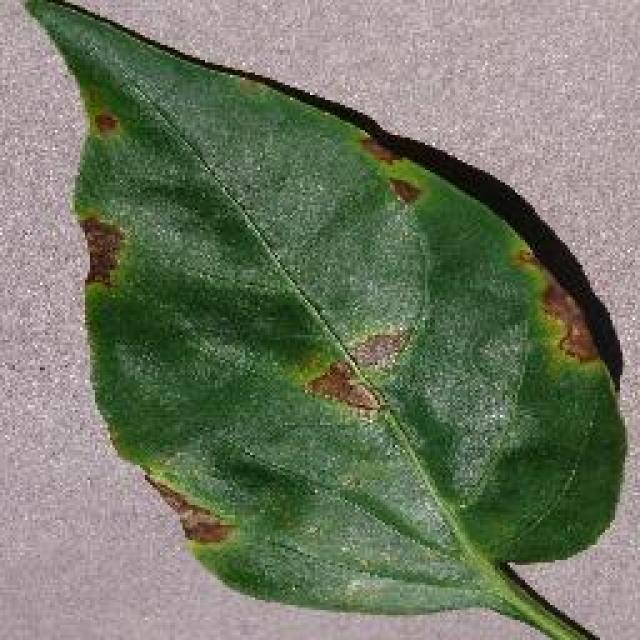Chilli_Bacterial_Spot: (15, 0, 633, 638), (290, 320, 415, 425), (508, 242, 602, 370), (140, 468, 238, 550), (352, 128, 428, 210), (300, 355, 388, 420), (538, 280, 602, 368), (72, 210, 128, 290), (345, 322, 413, 378), (77, 85, 125, 145), (175, 502, 235, 548), (552, 313, 602, 365), (355, 130, 400, 168), (382, 172, 422, 208), (88, 105, 122, 140)
